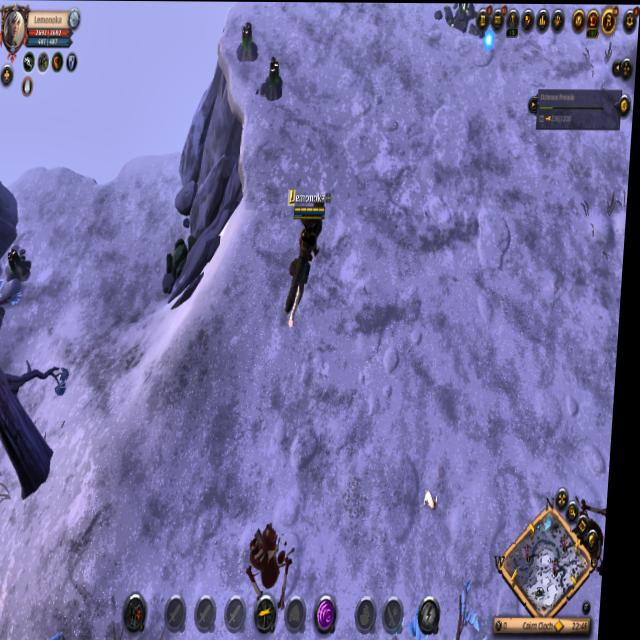ore tier 3: (260, 55, 289, 106), (7, 243, 36, 294), (234, 19, 261, 69), (0, 291, 9, 341)
